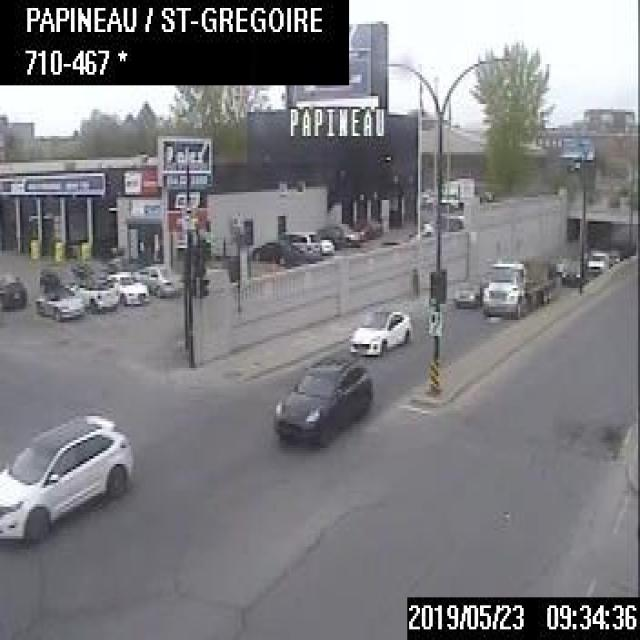vehicle: (0, 408, 133, 541), (272, 354, 376, 445), (483, 245, 557, 315), (346, 306, 412, 359), (34, 283, 81, 319), (70, 275, 118, 309), (249, 237, 305, 265), (109, 269, 149, 305), (436, 173, 476, 207), (140, 263, 180, 295), (281, 229, 320, 261), (0, 271, 29, 313), (294, 230, 334, 258), (39, 264, 75, 292), (452, 275, 482, 308), (559, 256, 587, 288), (320, 221, 358, 244), (352, 216, 383, 237), (585, 248, 608, 275)
